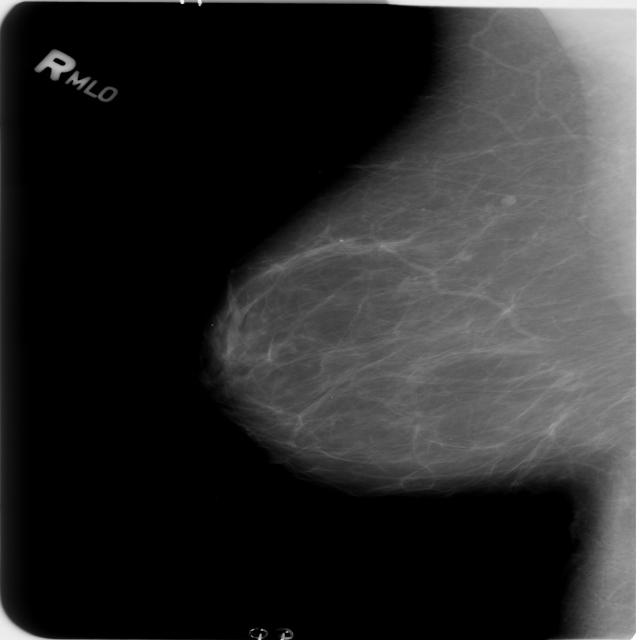normal: (191, 0, 640, 518)
